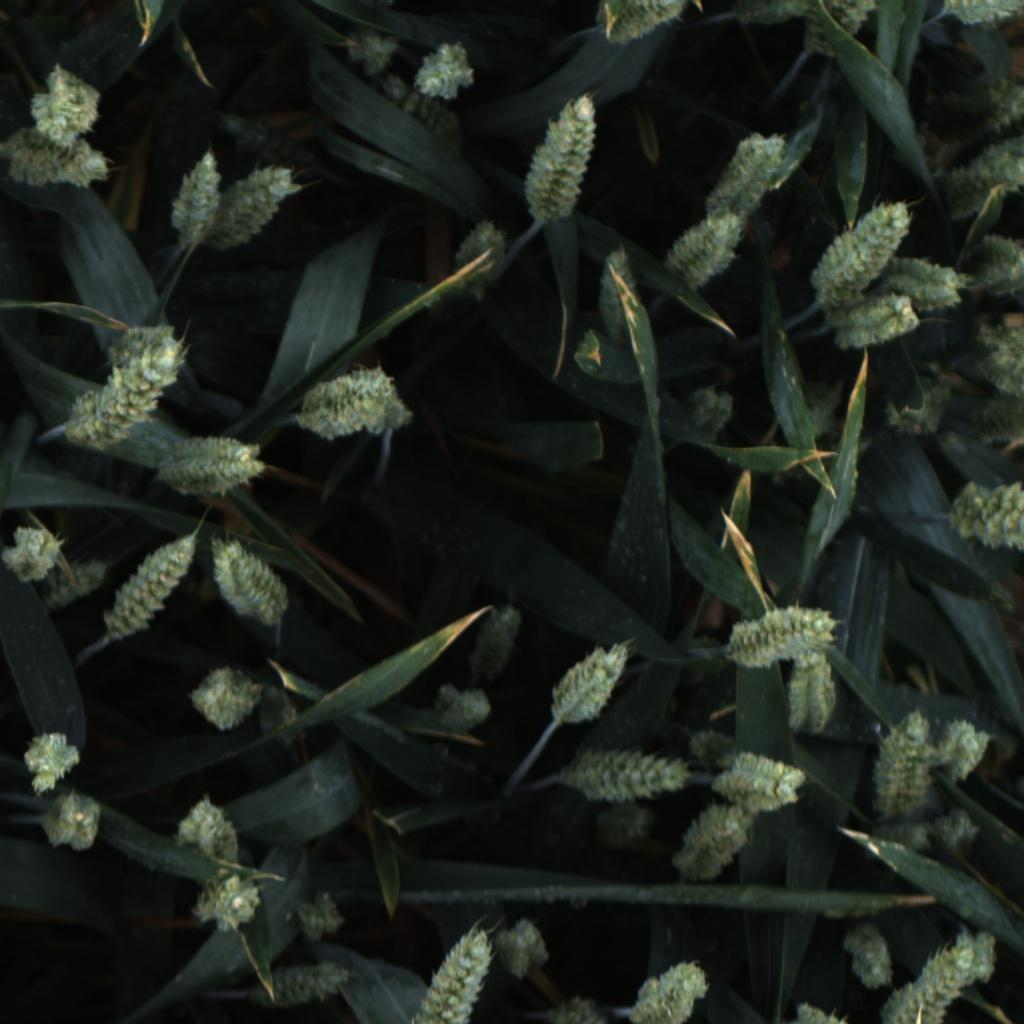0-0: (59, 339, 193, 465), (803, 187, 921, 310), (707, 598, 848, 679), (101, 530, 198, 642), (521, 90, 600, 225), (290, 362, 410, 450), (685, 129, 788, 228), (875, 936, 977, 1024), (543, 633, 640, 725), (406, 921, 492, 1024), (208, 529, 294, 629), (557, 739, 694, 800), (666, 807, 762, 890), (869, 707, 939, 816), (379, 79, 476, 157), (883, 363, 971, 448), (709, 748, 815, 817), (0, 130, 116, 193), (156, 433, 268, 497), (929, 150, 1024, 223), (918, 76, 1024, 141), (164, 145, 226, 251), (665, 210, 745, 291), (226, 162, 299, 250), (31, 62, 107, 145), (184, 659, 264, 736), (36, 543, 125, 612), (953, 475, 1024, 560), (245, 955, 353, 1010), (828, 286, 919, 350), (592, 240, 647, 345), (629, 954, 711, 1024), (171, 793, 247, 866), (184, 873, 269, 937), (37, 787, 111, 857), (782, 645, 837, 739), (890, 252, 975, 312), (926, 712, 996, 784), (18, 721, 85, 795), (454, 215, 515, 296), (590, 0, 687, 49), (0, 517, 66, 589), (467, 601, 531, 675), (102, 318, 181, 377), (249, 678, 308, 749), (798, 0, 880, 51), (842, 916, 898, 989), (491, 911, 551, 979), (428, 681, 498, 739), (977, 313, 1024, 398), (411, 41, 477, 101), (862, 814, 944, 861), (680, 721, 750, 776), (335, 22, 401, 80), (589, 796, 656, 851), (681, 378, 740, 439), (291, 885, 349, 947), (962, 388, 1024, 446), (725, 0, 827, 31), (974, 235, 1024, 295), (937, 0, 1024, 34), (930, 805, 984, 856), (540, 990, 617, 1024), (785, 991, 859, 1024), (959, 925, 999, 986)
